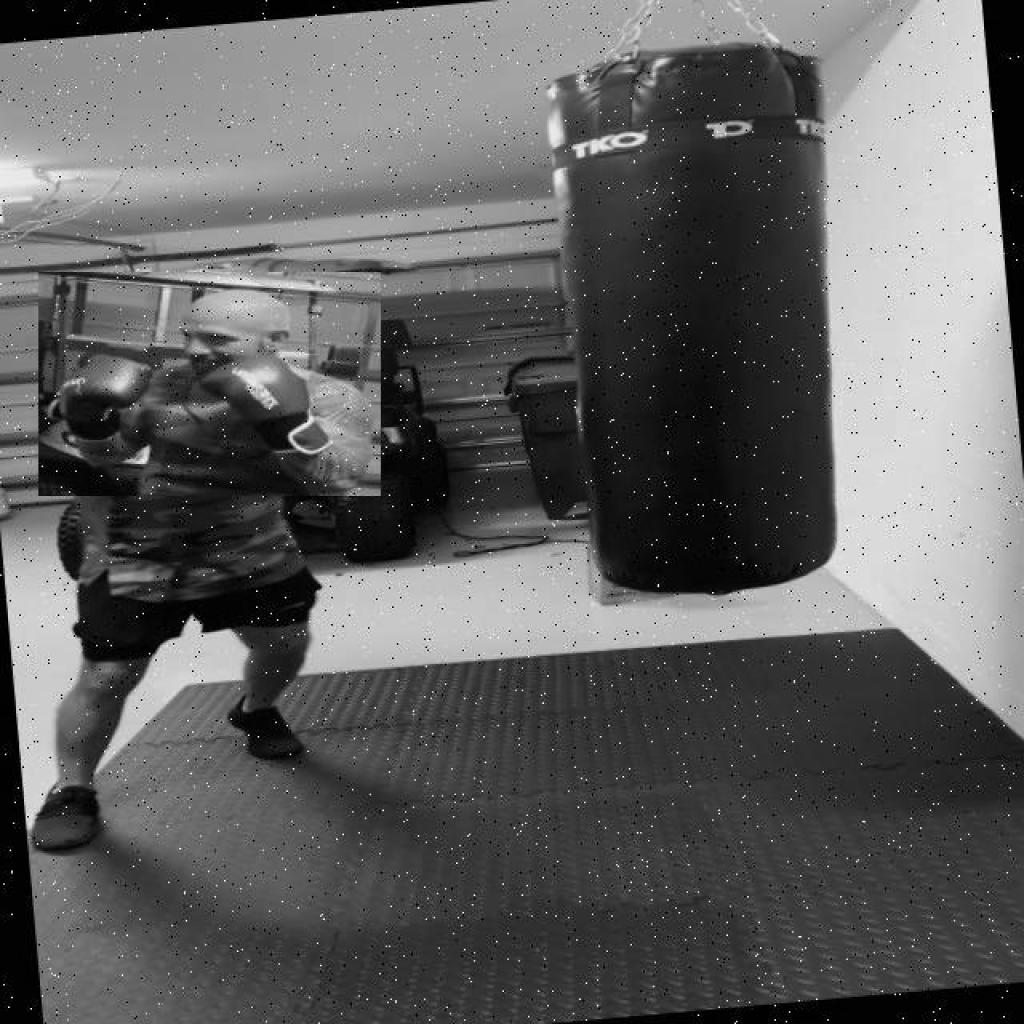bag: (538, 42, 852, 611)
no punch: (38, 272, 381, 497)
